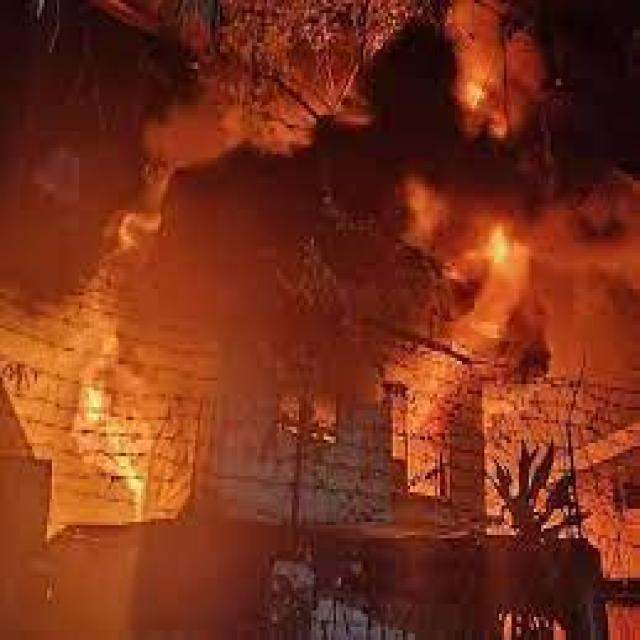Fire: (78, 381, 175, 535)
Smoke: (159, 84, 451, 257), (427, 184, 640, 417), (452, 0, 561, 127)
